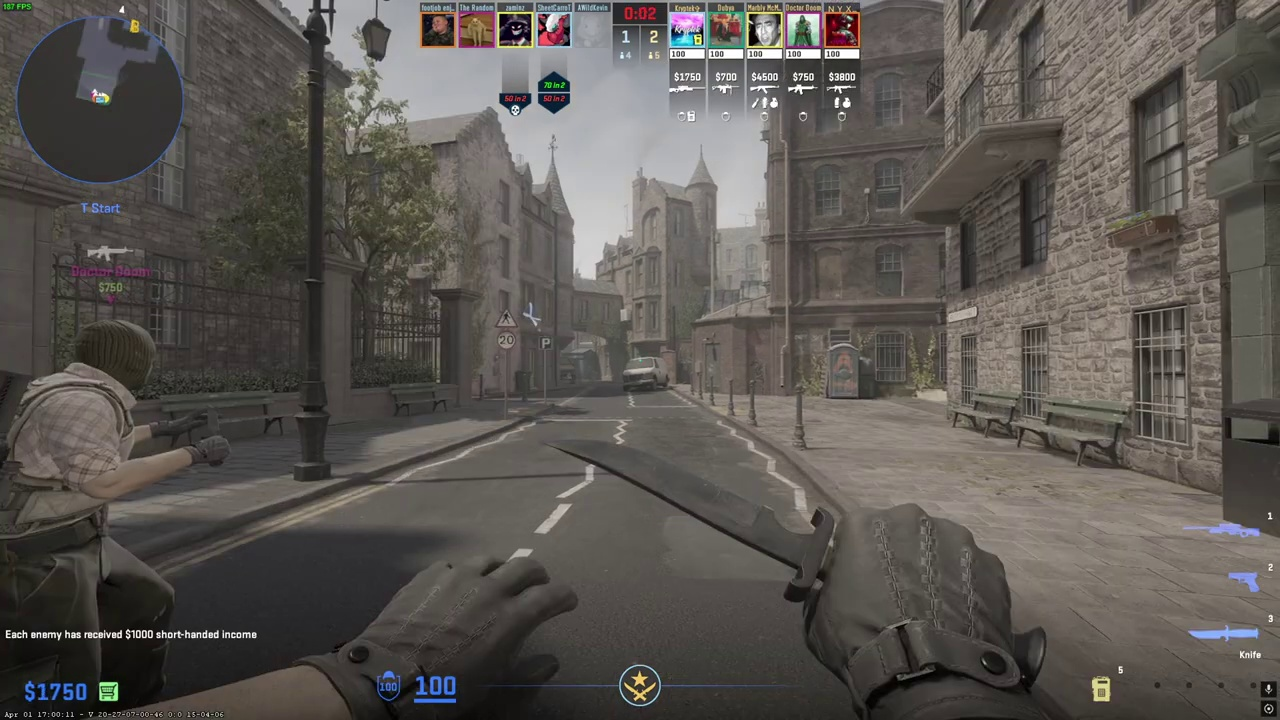Terrorist: (0, 320, 183, 720)
